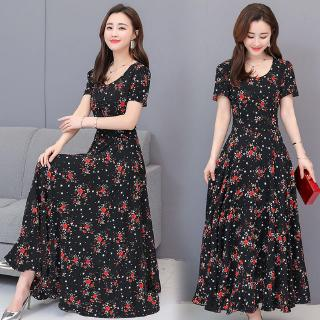C_dress: (15, 63, 164, 305), (197, 60, 310, 296)
